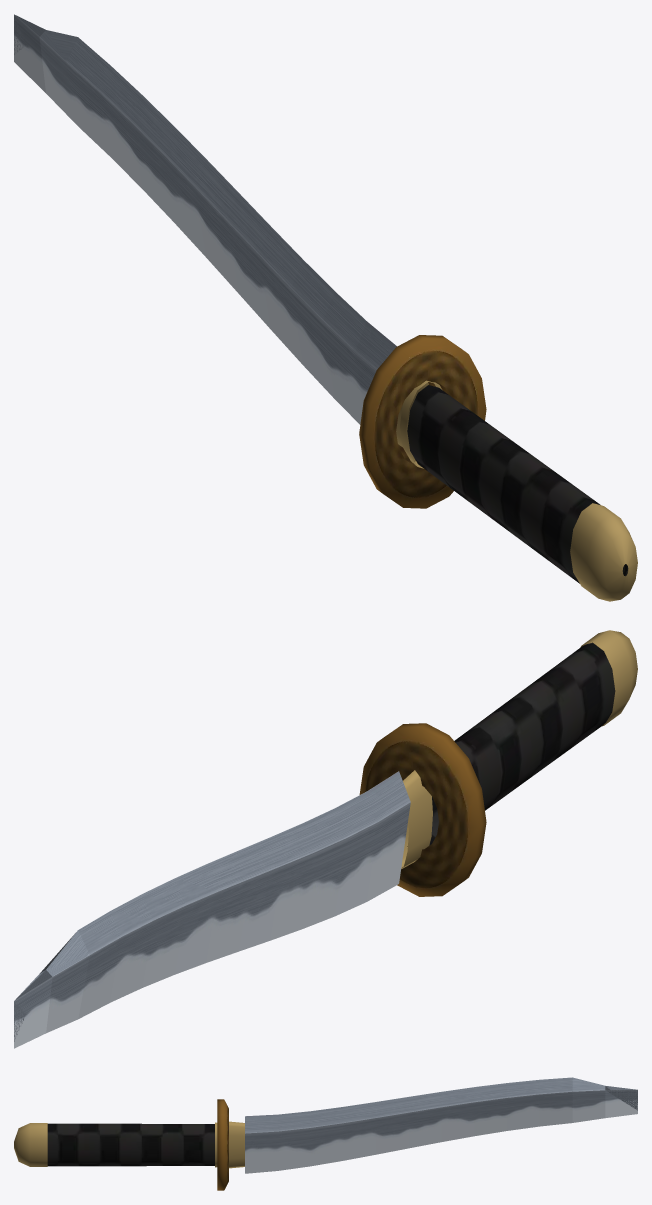
Rendered from twin_fangs.glb.
3 renders of one model, top to bottom at view 1: azimuth 30°, elevation 25°; view 2: azimuth 150°, elevation 25°; view 3: azimuth 270°, elevation 25°, orthographic. The views are drawn at different scales.
Visible parts, largest first — view 1: main; view 2: main; view 3: main.
Part boxes in pixels (box(x1,y1,x2,y2)): main: box(14, 14, 637, 601); main: box(14, 630, 637, 1048); main: box(14, 1077, 637, 1190).
Size of the model in its own units: 0.0615 by 0.1056 by 0.54.
4 materials, 3 textured.
